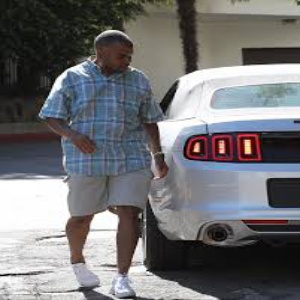bumper: (150, 181, 203, 243)
